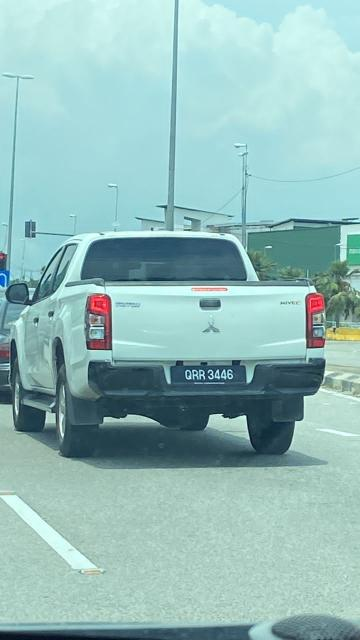License_Plate: (175, 366, 246, 387)
car: (2, 230, 337, 463)
